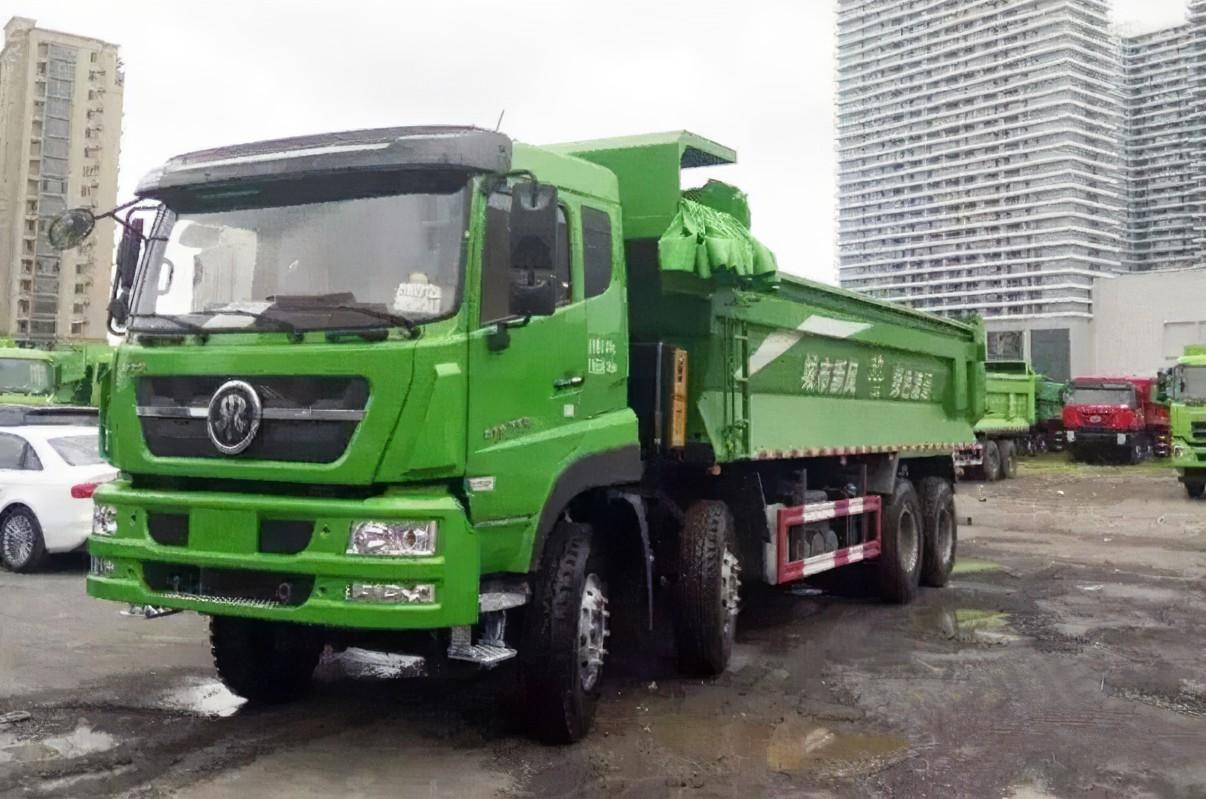truck: (55, 90, 1002, 751)
